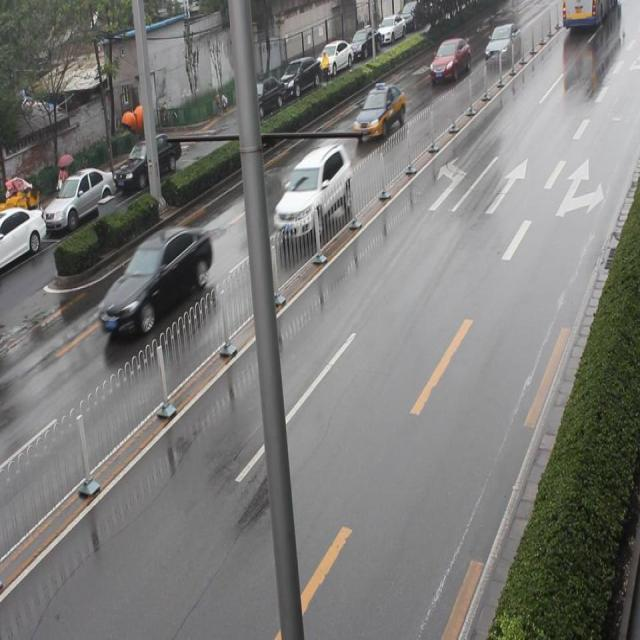car: (96, 227, 212, 345), (275, 142, 353, 250), (353, 79, 406, 145), (428, 33, 471, 90), (484, 17, 520, 65)
